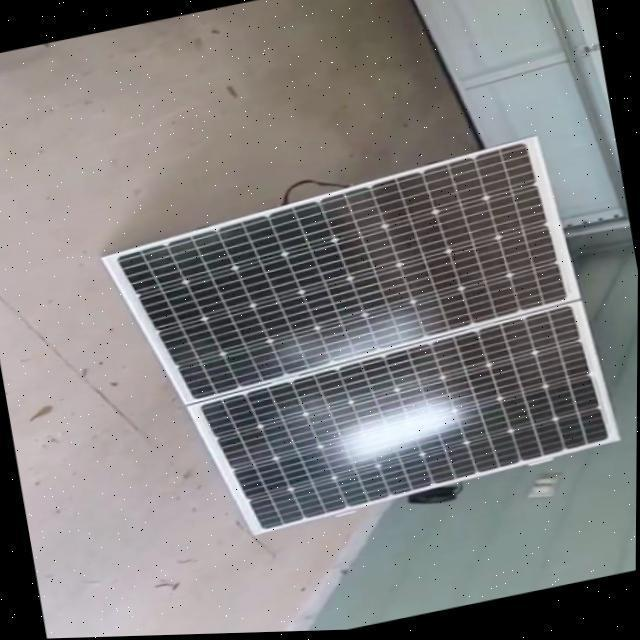Normal Solar Panel: (96, 134, 624, 556)
